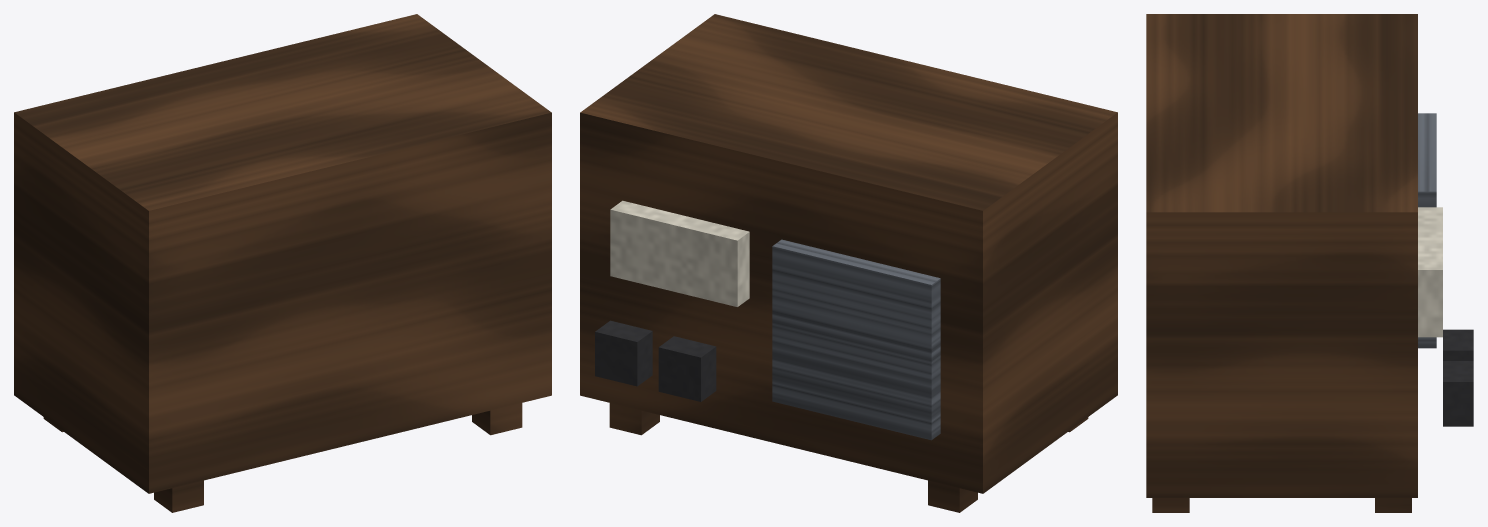
The model's file is radio.fbx.
3 renders of one model, left to right at view 1: azimuth 30°, elevation 25°; view 2: azimuth 150°, elevation 25°; view 3: azimuth 270°, elevation 25°, orthographic.
Visible parts, largest first — view 1: radio; view 2: radio; view 3: radio.
Boxes of the visible parts, x1=… form: radio: x1=14, y1=14, x2=551, y2=512; radio: x1=580, y1=14, x2=1117, y2=512; radio: x1=1146, y1=14, x2=1473, y2=512.
Size of the model in its own units: 38 by 28 by 26.5.
